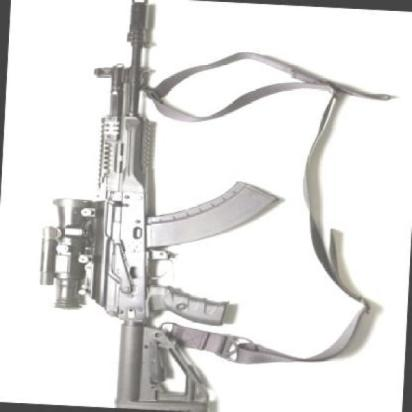Gun: (9, 0, 280, 412)
